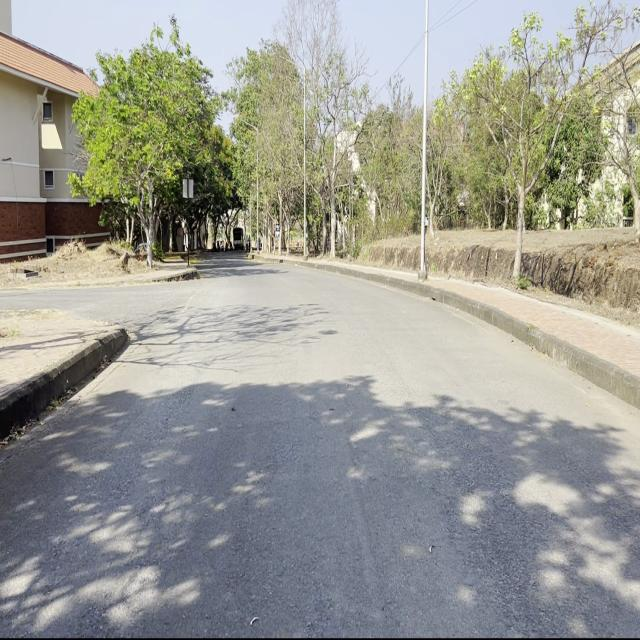Road: (4, 261, 636, 636)
